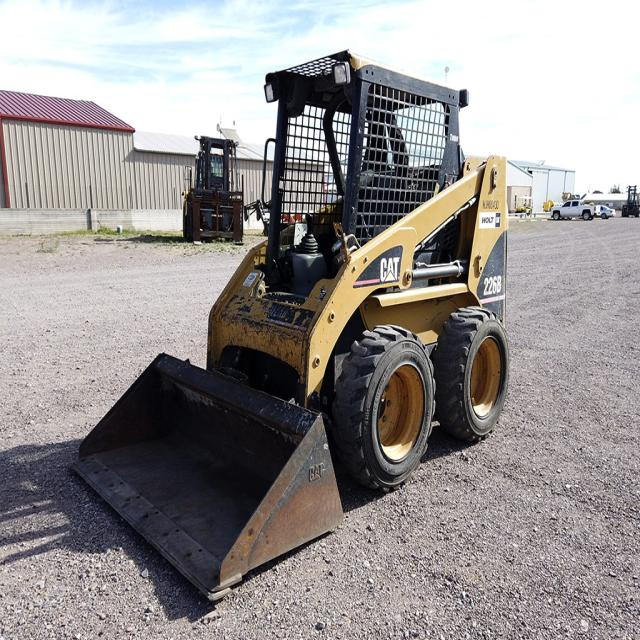buldozerpayloadergrader: (61, 40, 517, 602)
